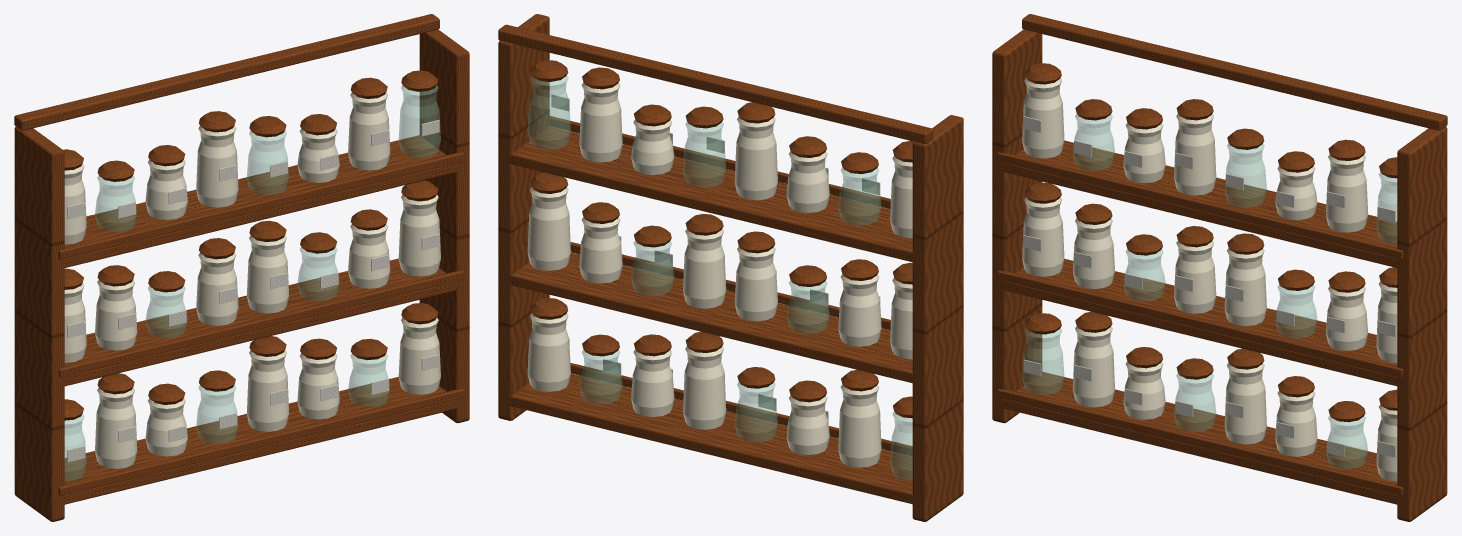
File: witch-cottage-and-apothecary-jar-wall-shelf-a317bfe1__32479.glb
3 renders of one model, left to right at view 1: azimuth 30°, elevation 25°; view 2: azimuth 150°, elevation 25°; view 3: azimuth 330°, elevation 25°, orthographic. The views are drawn at different scales.
Visible parts, largest first — view 1: jar-wall-shelf; view 2: jar-wall-shelf; view 3: jar-wall-shelf.
Part boxes in pixels (<box>): jar-wall-shelf: <box>14,14,469,521</box>; jar-wall-shelf: <box>498,14,963,521</box>; jar-wall-shelf: <box>992,14,1447,521</box>.
Size of the model in its own units: 1.78 by 1.55 by 0.2899.
4 materials, 2 textured.
